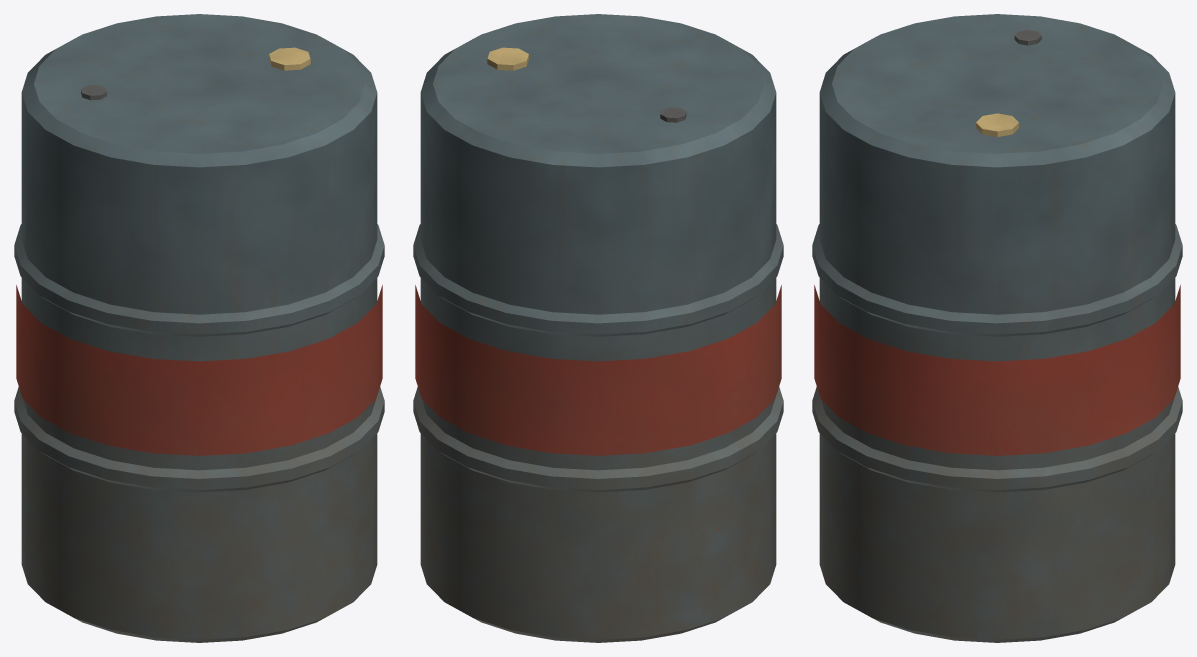
File: fuel_drum.glb
The picture shows the model from 3 angles, left to right: view 1: azimuth 30°, elevation 25°; view 2: azimuth 150°, elevation 25°; view 3: azimuth 270°, elevation 25°; orthographic projection.
Parts seen in each view (by area): view 1: drum; view 2: drum; view 3: drum.
Part boxes in pixels (left/top/right/bottom): drum: left=14, top=14, right=384, bottom=642; drum: left=413, top=14, right=783, bottom=642; drum: left=812, top=14, right=1182, bottom=642.
Size of the model in its own units: 0.604 by 0.89 by 0.604.
1 material, 1 textured.
